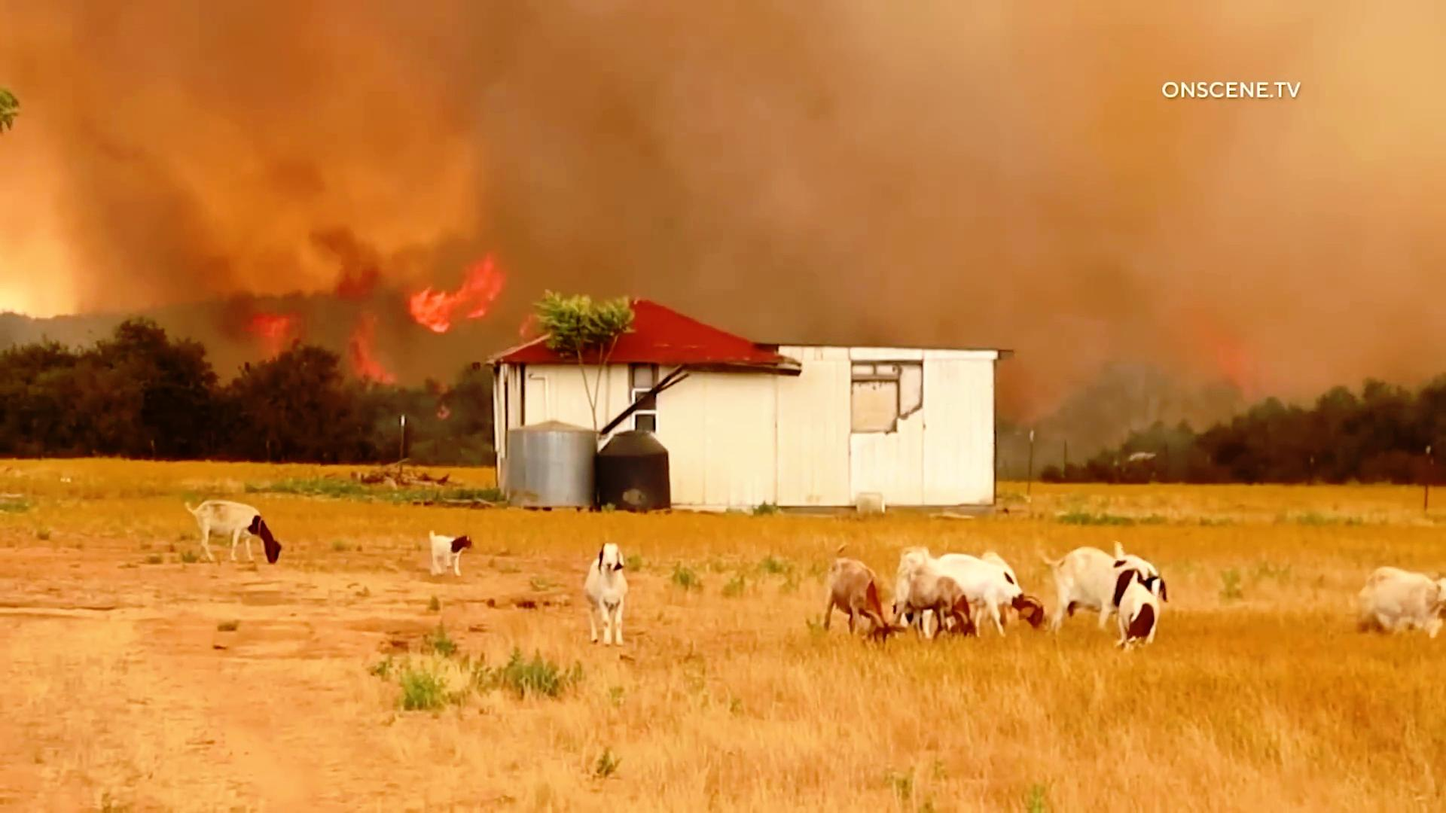fire: (403, 222, 525, 338)
smoke: (383, 15, 864, 211)
